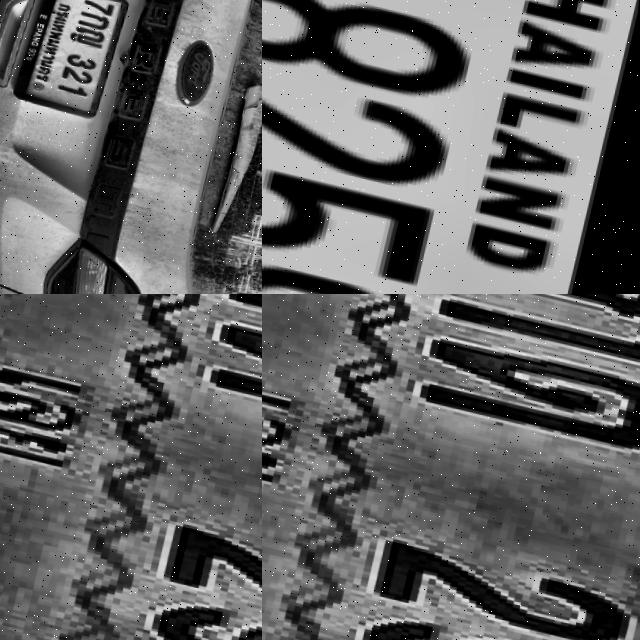license-plate: (262, 294, 640, 640), (262, 0, 640, 294), (0, 294, 262, 640), (13, 0, 136, 115)
